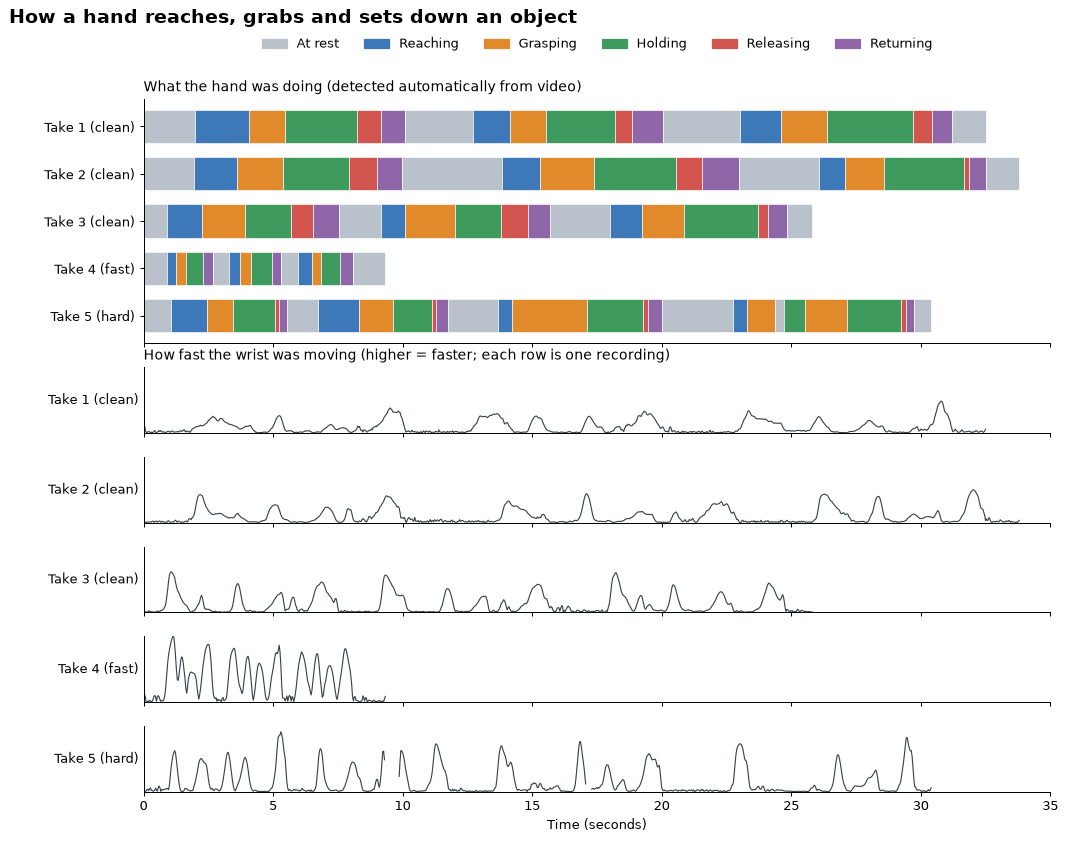

The dashboard page shown, as its layout file describes it:
{"tool":"tableau","page":{"name":"Dashboard 2","canvas":[1000,1000],"units":"permille","ordinal":0},"visuals":[{"type":"worksheet","title":"Sheet 4","mark":"Automatic","rows":["aperture"],"cols":["speed"],"box":[3.9,8.1,496.1,491.9]},{"type":"title","box":[500,8.1,418.4,42.3]},{"type":"legend","title":"Sheet 1","param":"[federated.06mm9ll1ioyky11diztii18fgk0g].[sum:duration_s:qk]","box":[918.5,8.1,77.7,22.2]},{"type":"legend","title":"Sheet 1","param":"[federated.06mm9ll1ioyky11diztii18fgk0g].[none:phase_name:nk]","box":[918.5,30.2,77.7,148]},{"type":"worksheet","title":"Sheet 1","mark":"GanttBar","rows":["take_label"],"cols":["start_s"],"box":[500,50.4,418.4,229.6]},{"type":"legend","title":"Sheet 4","param":"[federated.1ud2cr7153saak1ffa96g06xplu0].[none:phase_name:nk]","box":[918.5,178.3,77.7,148]},{"type":"worksheet","title":"Sheet 2","mark":"Line","rows":["take_label","speed"],"cols":["t_s"],"box":[500,280,418.4,712]},{"type":"worksheet","title":"Sheet 3","mark":"Bar","rows":["take_label"],"cols":["percent_frames_matching_human_labels"],"box":[3.9,500,496.1,491.9]}]}

Visuals, with their boxes on the dashboard's canvas, which has no fixed pixel size, in thousandths of its width and height (x1, y1, x2, y2). These are canvas units, not pixel positions in the 1067x841 screenshot, which may show the page scaled, cropped or inside an application window:
"Sheet 4" worksheet: {"left": 4, "top": 8, "right": 500, "bottom": 500}
title: {"left": 500, "top": 8, "right": 918, "bottom": 50}
"Sheet 1" legend: {"left": 918, "top": 8, "right": 996, "bottom": 30}
"Sheet 1" legend: {"left": 918, "top": 30, "right": 996, "bottom": 178}
"Sheet 1" worksheet (GanttBar marks): {"left": 500, "top": 50, "right": 918, "bottom": 280}
"Sheet 4" legend: {"left": 918, "top": 178, "right": 996, "bottom": 326}
"Sheet 2" worksheet (Line marks): {"left": 500, "top": 280, "right": 918, "bottom": 992}
"Sheet 3" worksheet (Bar marks): {"left": 4, "top": 500, "right": 500, "bottom": 992}
